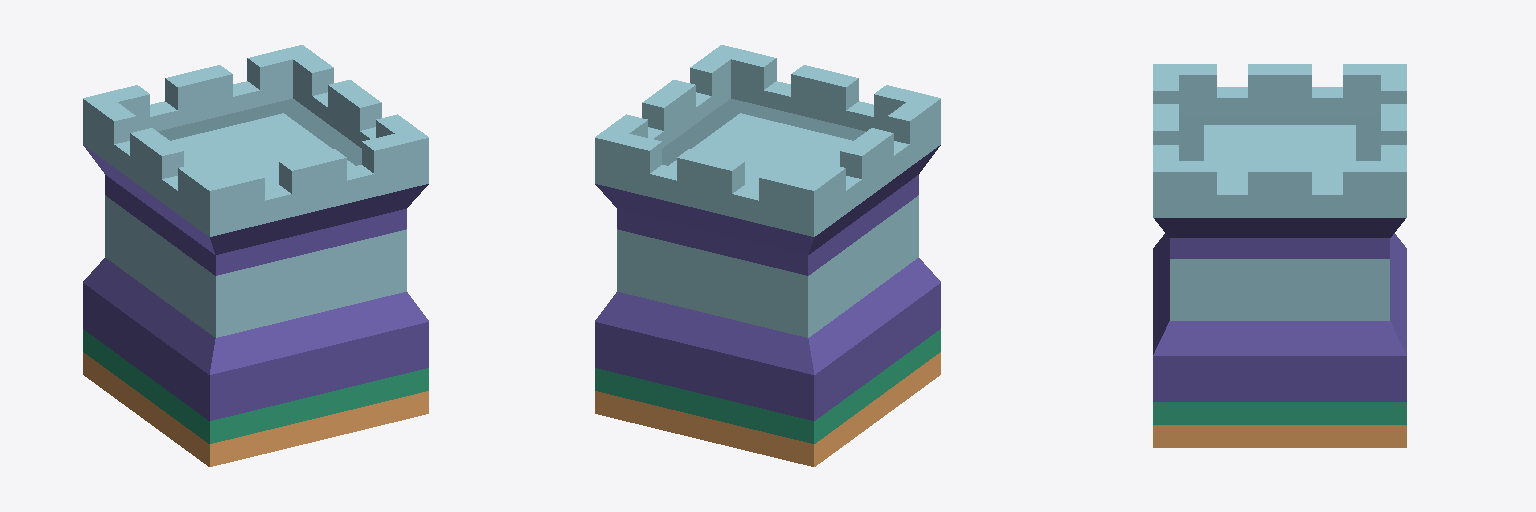
File: tile_tower_catapult.obj
The picture shows the model from 3 angles: view 1: azimuth 30°, elevation 25°; view 2: azimuth 150°, elevation 25°; view 3: azimuth 270°, elevation 25°; orthographic projection.
Parts seen in each view (by area): view 1: towerSquare_sampleD, tile; view 2: towerSquare_sampleD, tile; view 3: towerSquare_sampleD, tile.
Part boxes in pixels (x1,y1,x2,y2): towerSquare_sampleD: (83,45,428,420); tile: (83,329,428,466); towerSquare_sampleD: (595,45,940,420); tile: (595,329,940,466); towerSquare_sampleD: (1153,64,1406,401); tile: (1153,402,1406,447).
Bounding box in the file's own units: 1 × 1.2 × 1.